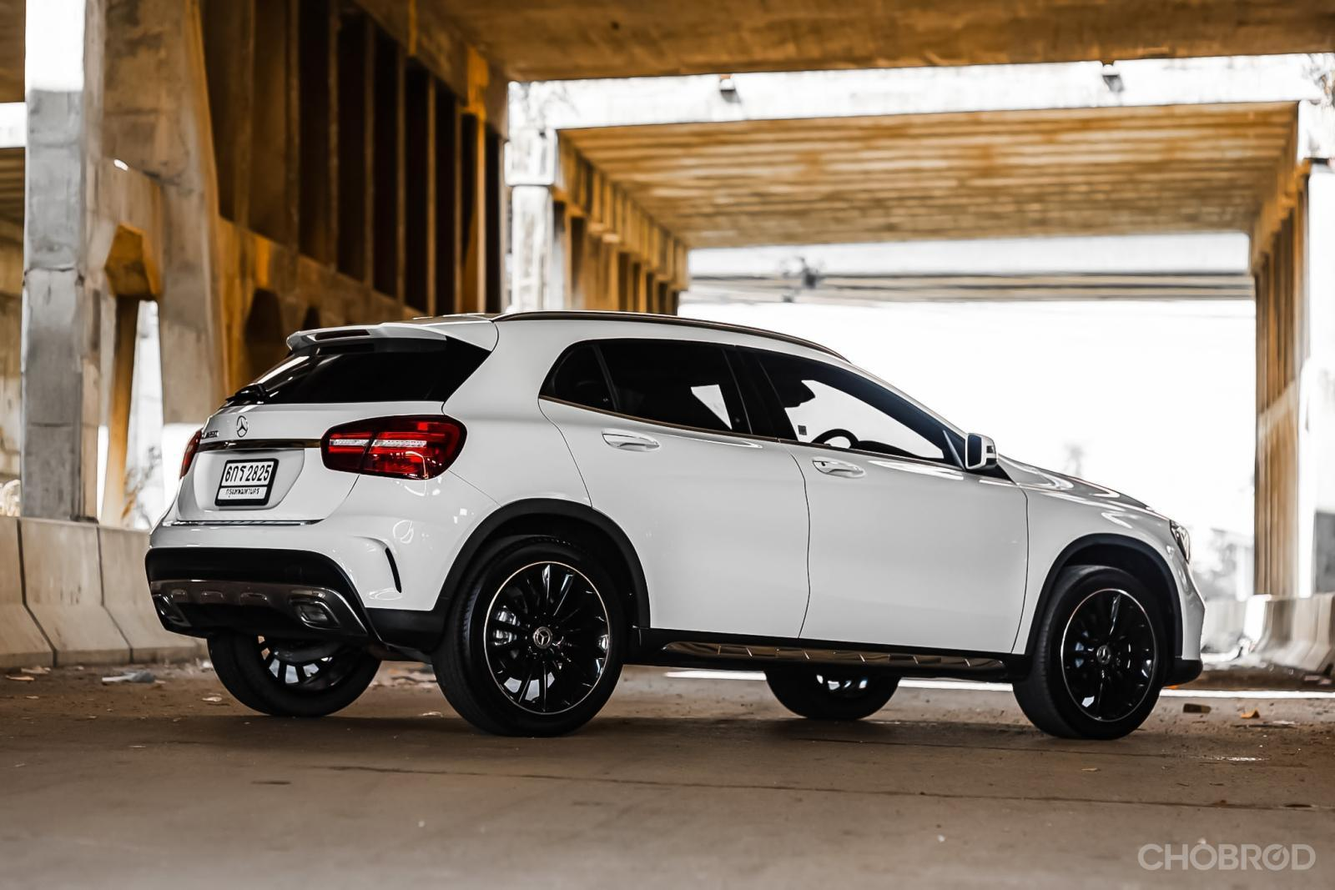license-plate: (213, 456, 278, 505)
